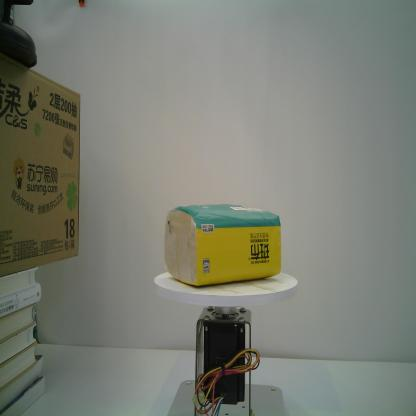Tissue: (162, 201, 282, 288)
